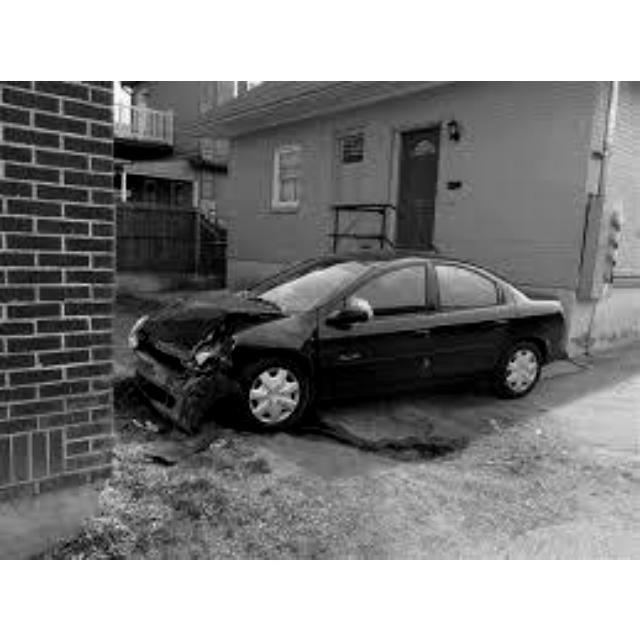bonnet-dent: (158, 290, 274, 346)
fender-dent: (268, 313, 319, 357)
front-bumper-dent: (124, 345, 215, 404)
